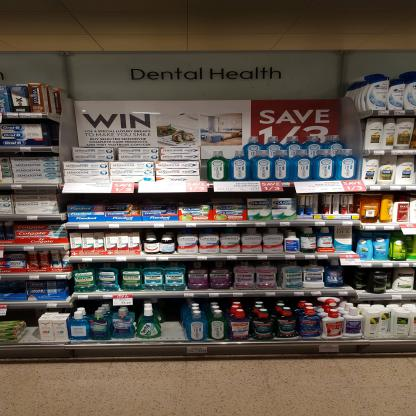Void: (65, 194, 208, 204), (158, 300, 183, 338), (0, 281, 25, 293), (217, 194, 243, 204), (8, 310, 34, 319), (26, 322, 39, 338)
